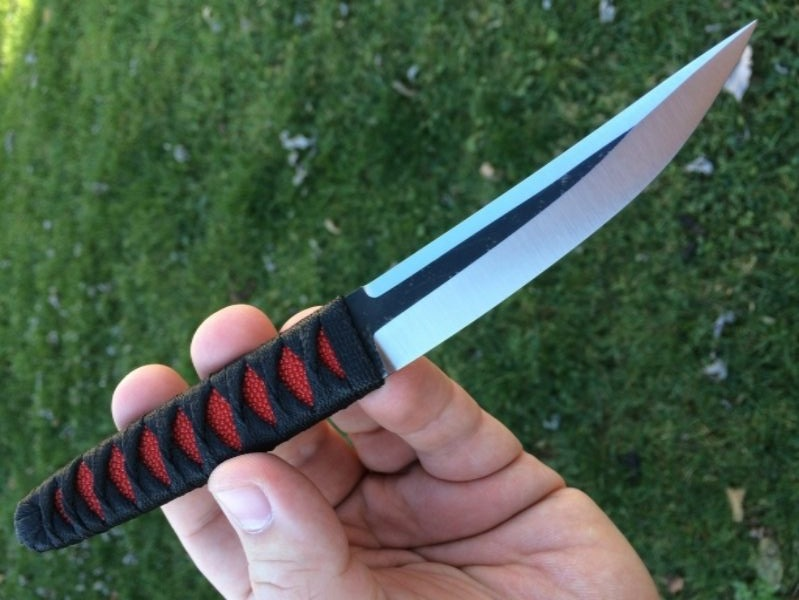knife: (108, 10, 769, 553)
